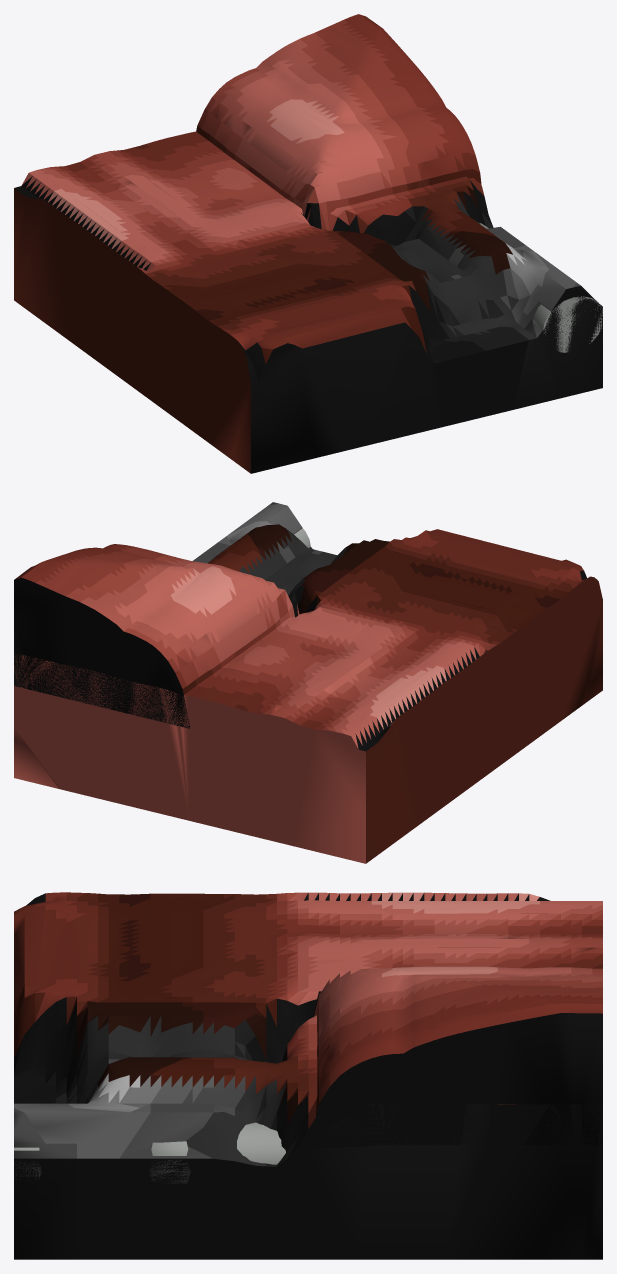
File: savara_boss_195.glb
3 views of the same model, one above another, from view 1: azimuth 30°, elevation 25°; view 2: azimuth 150°, elevation 25°; view 3: azimuth 270°, elevation 25° (orthographic). The views are drawn at different scales.
Visible parts, largest first — view 1: savara_boss_195_hull; view 2: savara_boss_195_hull; view 3: savara_boss_195_hull.
Part boxes in pixels (x1,y1,x2,y2): savara_boss_195_hull: (14,14,602,473); savara_boss_195_hull: (14,502,602,863); savara_boss_195_hull: (14,892,602,1259).
Size of the model in its own units: 24 by 13.2 by 28.
